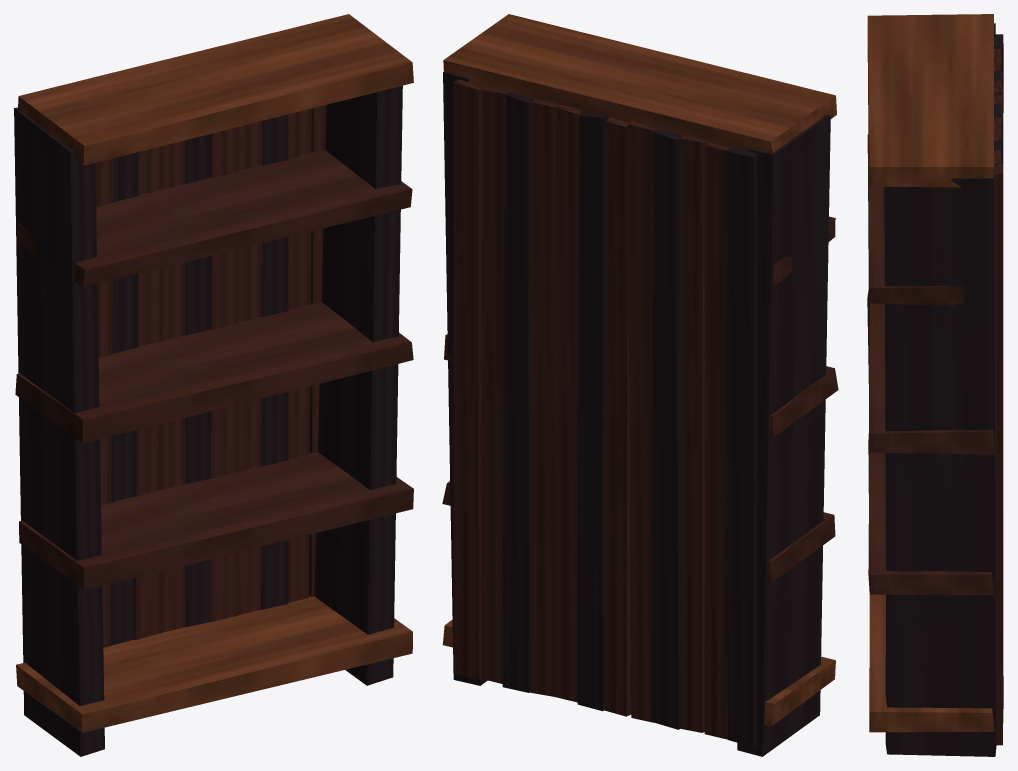
The model's file is workshop-bookcase.glb.
The picture shows the model from 3 angles, left to right: view 1: azimuth 30°, elevation 25°; view 2: azimuth 150°, elevation 25°; view 3: azimuth 270°, elevation 25°; orthographic projection. The views are drawn at different scales.
Parts seen in each view (by area): view 1: Splayed upright, Splayed upright.001, Shelf ledge.004, Shelf ledge.002, Shelf ledge.001, Shelf ledge, Shelf ledge.003, Back stave.007, Back stave.009, Back stave.004, Back stave.006, Back stave.003 (+5 smaller); view 2: Splayed upright, Shelf ledge.004, Back stave, Back stave.011, Back stave.003, Back stave.009, Back stave.006, Back stave.002, Back stave.005, Back stave.008, Back stave.004, Back stave.007 (+6 smaller); view 3: Splayed upright.001, Shelf ledge.004, Back stave.011, Shelf ledge.002, Shelf ledge.001, Shelf ledge, Shelf ledge.003.
Part boxes in pixels (x1,y1,x2,y2): Splayed upright: (14, 107, 104, 756); Splayed upright.001: (314, 85, 402, 685); Shelf ledge.004: (18, 14, 413, 165); Shelf ledge.002: (15, 302, 413, 443); Shelf ledge.001: (19, 452, 413, 590); Shelf ledge: (16, 596, 412, 732); Shelf ledge.003: (16, 150, 412, 286); Back stave.007: (210, 127, 238, 622); Back stave.009: (261, 114, 288, 609); Back stave.004: (134, 146, 163, 639); Back stave.006: (185, 134, 210, 627); Back stave.003: (110, 152, 138, 645); Splayed upright: (737, 114, 830, 756); Shelf ledge.004: (443, 14, 836, 152); Back stave: (725, 146, 757, 747); Back stave.011: (453, 79, 483, 679); Back stave.003: (652, 129, 683, 729); Back stave.009: (502, 92, 532, 692); Back stave.006: (577, 112, 609, 711); Back stave.002: (680, 136, 707, 732); Back stave.005: (604, 117, 631, 716); Back stave.008: (530, 99, 558, 696); Back stave.004: (627, 120, 657, 722); Back stave.007: (555, 104, 583, 702); Splayed upright.001: (884, 167, 996, 756); Shelf ledge.004: (867, 14, 993, 187); Back stave.011: (994, 163, 1003, 745); Shelf ledge.002: (867, 290, 994, 454); Shelf ledge.001: (868, 434, 994, 595); Shelf ledge: (869, 594, 994, 732); Shelf ledge.003: (867, 134, 964, 305).
Bounding box in the file's own units: 2.36 × 4.19 × 0.8672.
Materials: 3 (3 with a texture image).
